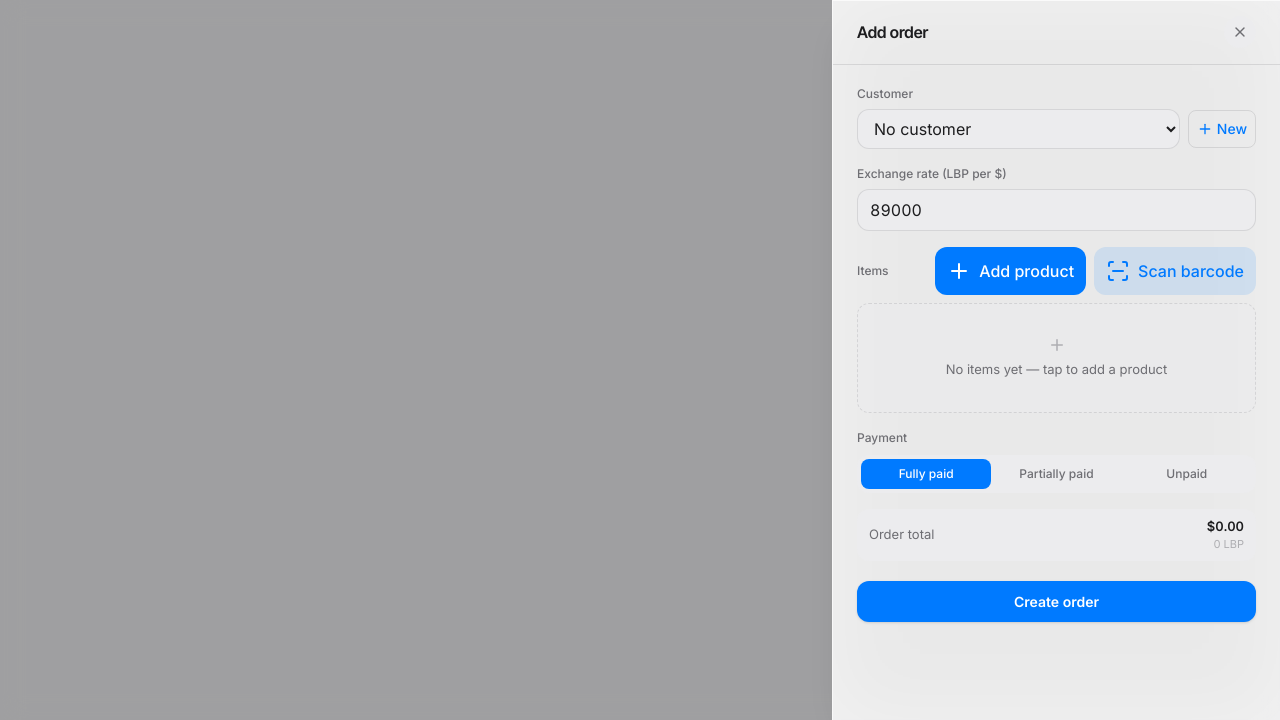
OrderForm stock gating › flags the exact limit and still allows submitting
The width and height of the screenshot is (1280, 720).
Click the button "Add product".
click(1011, 271)  # box [935,247,1086,295]
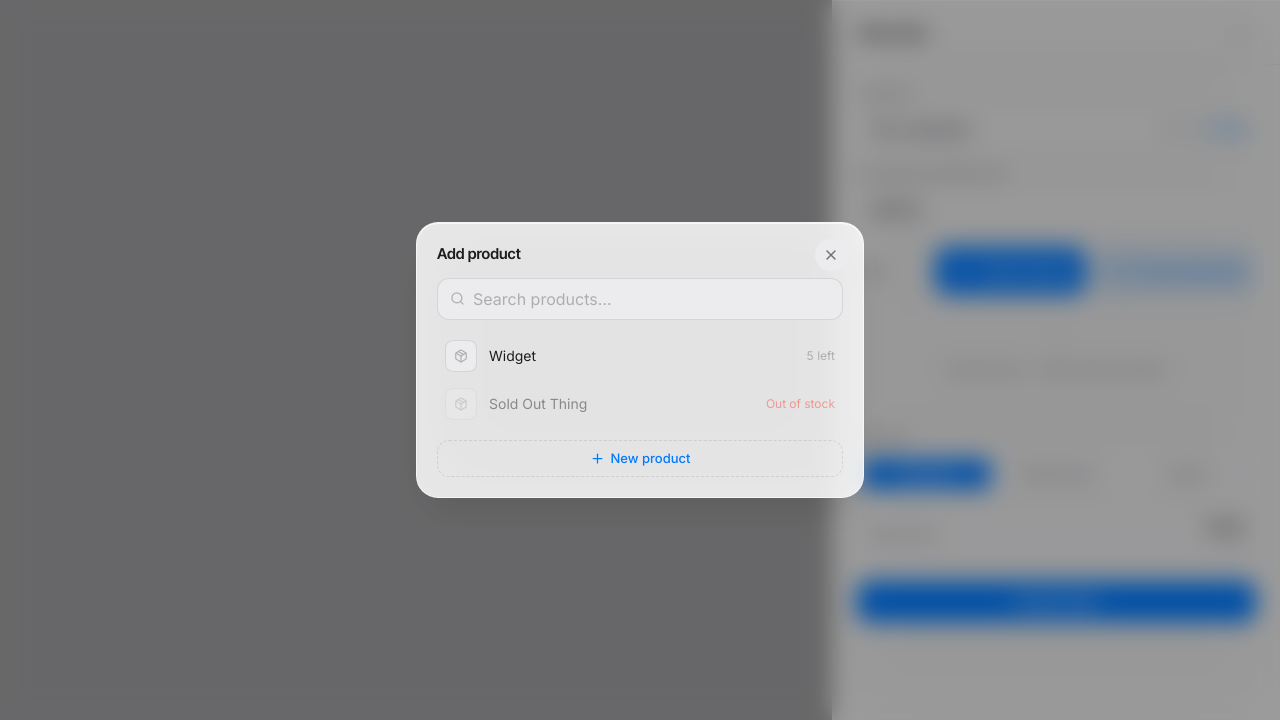
Click the button "Widget 5 left".
click(461, 356)  # box [437,332,843,380]
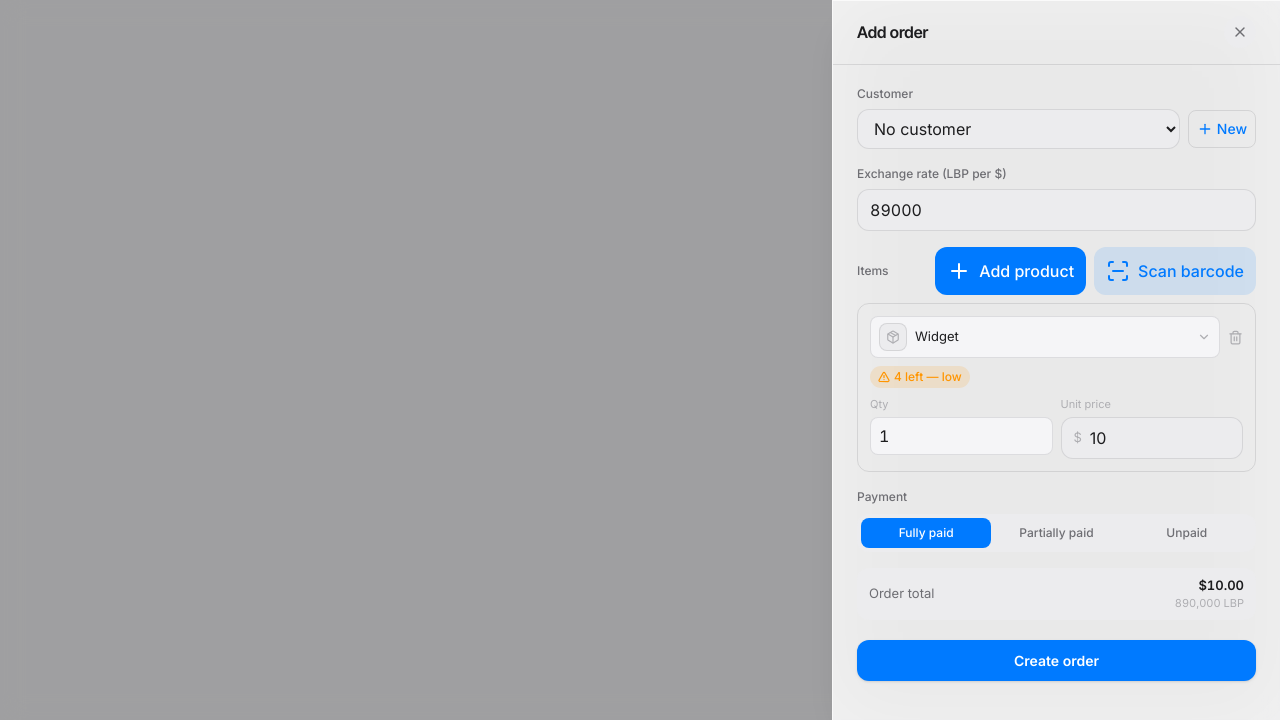
Replace the text in the 2nd number field with "5" at coordinates (961, 436), box [870,416,1052,454]
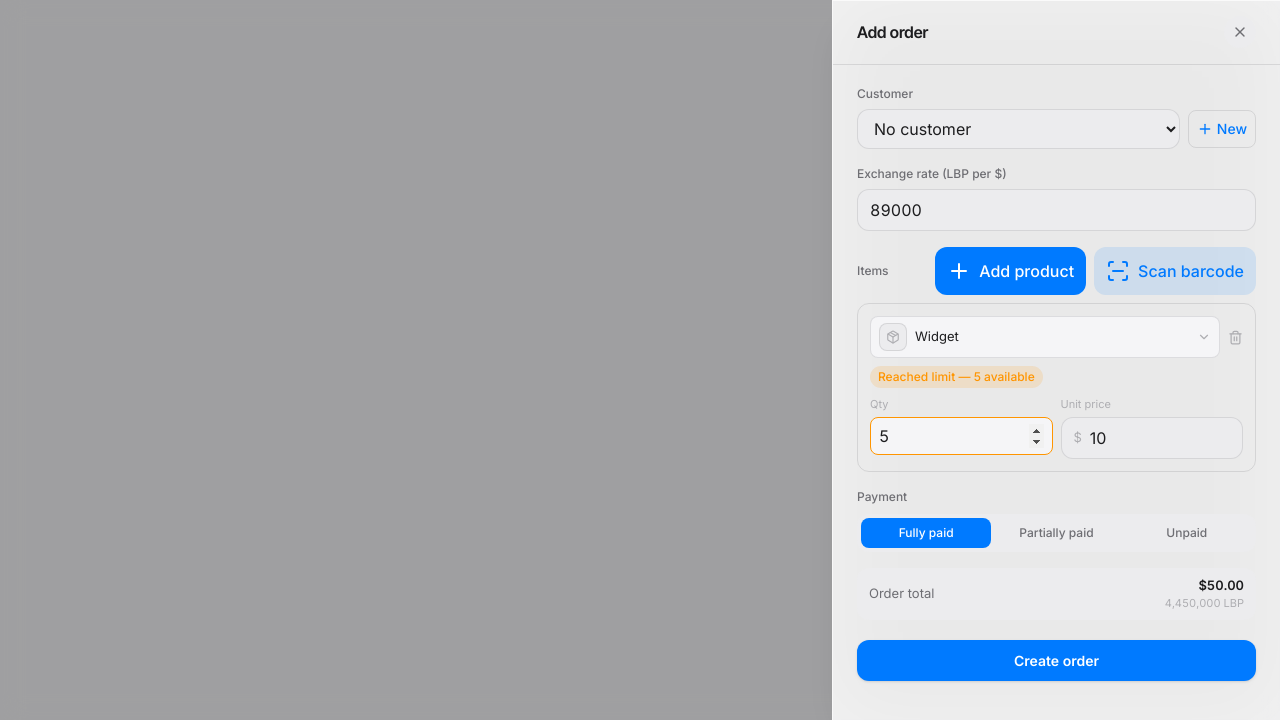
Expected: the button "Create order" is enabled, [857,640,1256,680]
Now the text "Reached limit — 5 available" is shown, box [870,366,1043,388]
